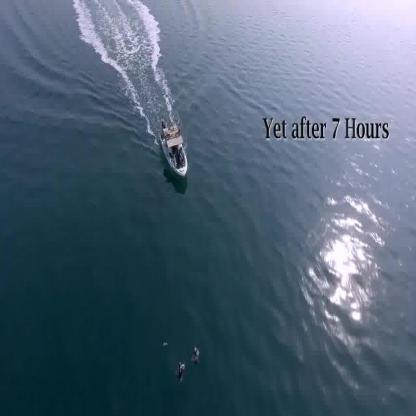Boat: (156, 112, 189, 182)
